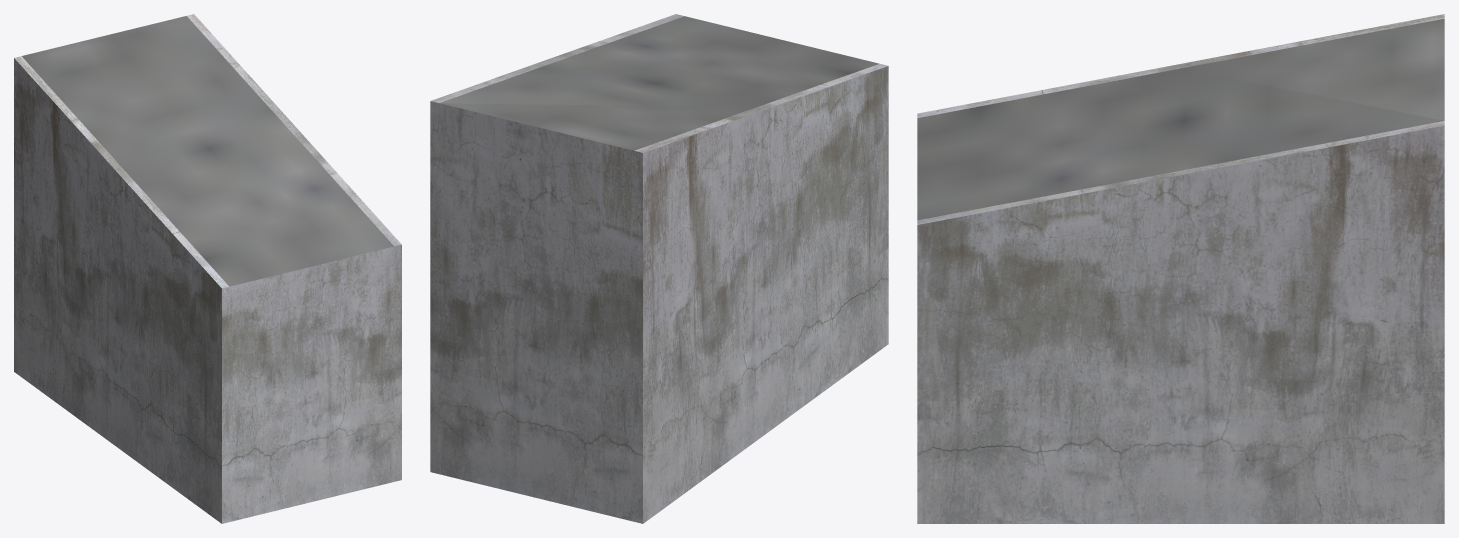
Rendered from JpHouse_23a_site3b.fbx.
3 renders of one model, left to right at view 1: azimuth 30°, elevation 25°; view 2: azimuth 150°, elevation 25°; view 3: azimuth 270°, elevation 25°, orthographic. The views are drawn at different scales.
Parts seen in each view (by area): view 1: JpHouse_23a_site3b; view 2: JpHouse_23a_site3b; view 3: JpHouse_23a_site3b.
Boxes of the visible parts, x1,y1,x2,y2 form: JpHouse_23a_site3b: (14, 14, 401, 523); JpHouse_23a_site3b: (430, 14, 888, 523); JpHouse_23a_site3b: (917, 14, 1444, 523).
Bounding box in the file's own units: 2.4 × 4 × 4.8.
